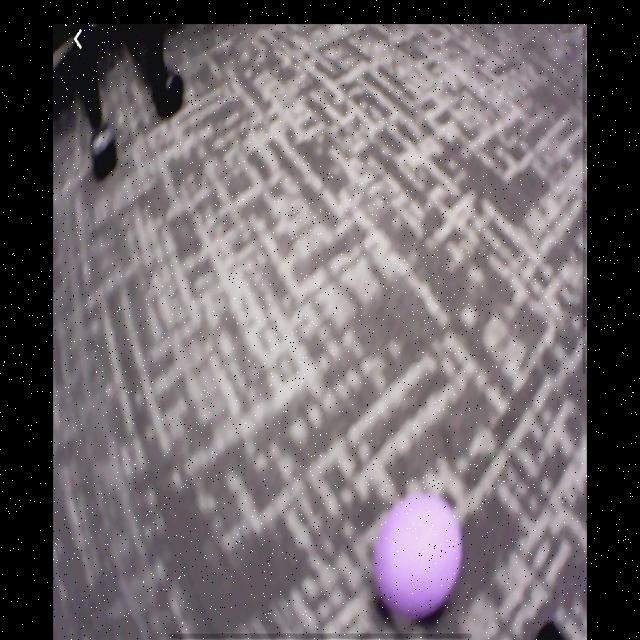ball: (373, 495, 464, 616)
